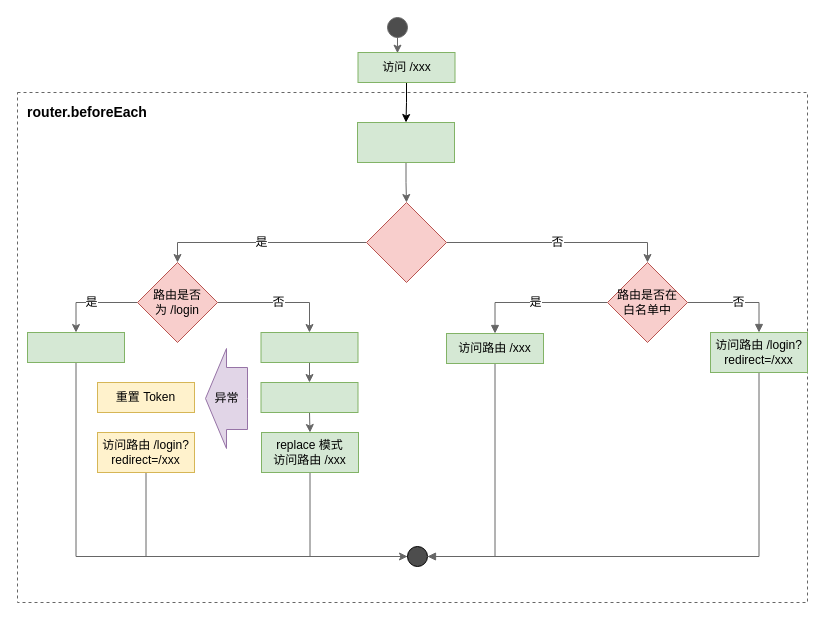
Image size: 825x620. Some labels were removed from this diagram. The shapes that lost their labels are listed below. From the top down, each one's centre as x and y in pixels, then its label:
At (405,142): "从 Cookie 中 获取 Token".
At (406,242): "Token 是否存在".
At (75,347): "重定向 /".
At (309,347): "获取用户角色".
At (309,397): "动态生成路由".
